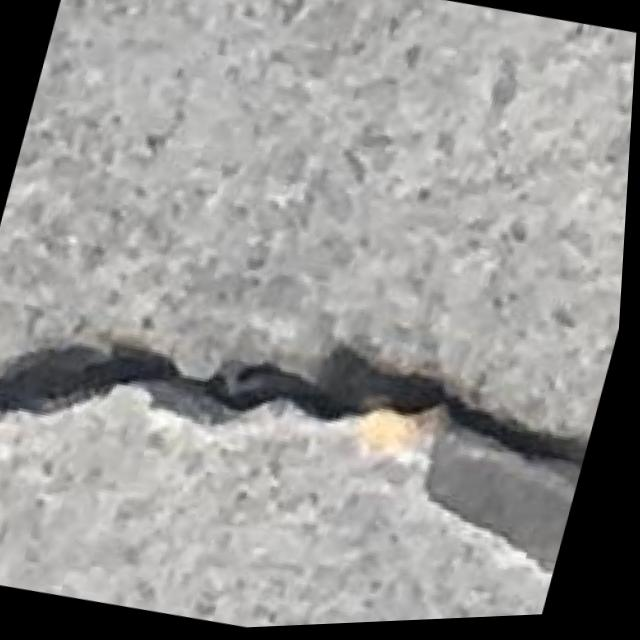Crack: (0, 230, 621, 586)
